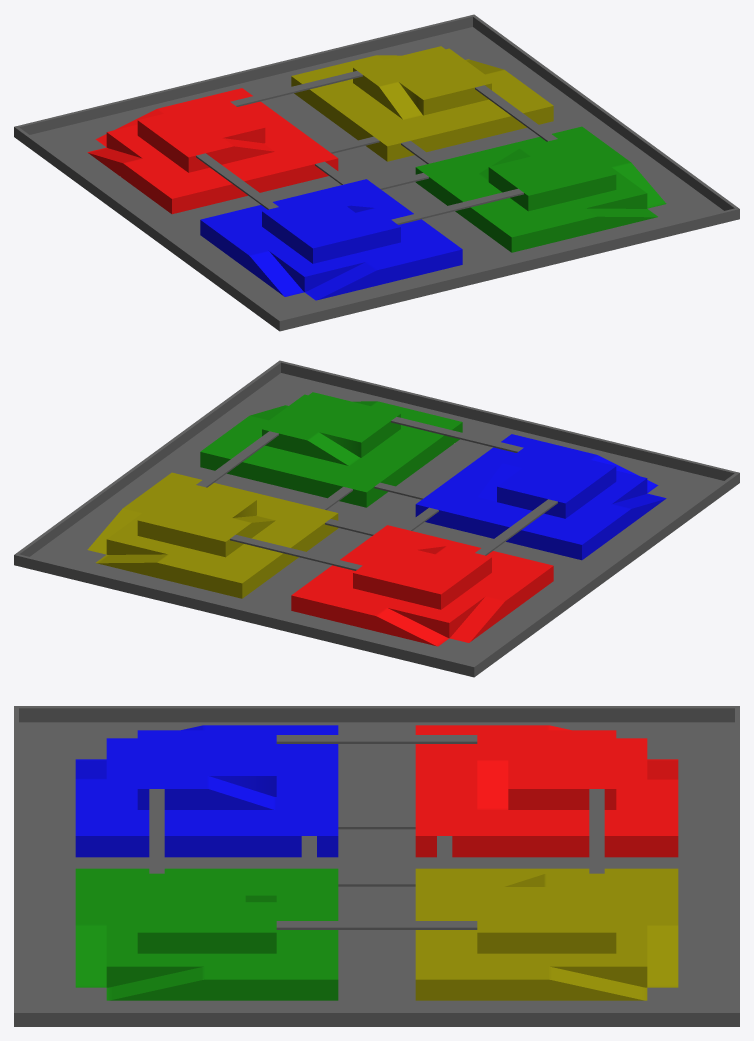
Rendered from Block_fort5.fbx.
The picture shows the model from 3 angles, top to bottom: view 1: azimuth 30°, elevation 25°; view 2: azimuth 150°, elevation 25°; view 3: azimuth 270°, elevation 25°; orthographic projection. The views are drawn at different scales.
Parts seen in each view (by area): view 1: Map; view 2: Map; view 3: Map.
Part boxes in pixels (<box>): Map: <box>14,14,739,331</box>; Map: <box>14,360,739,677</box>; Map: <box>14,706,739,1026</box>.
Bounding box in the file's own units: 14747 × 944 × 14747.
